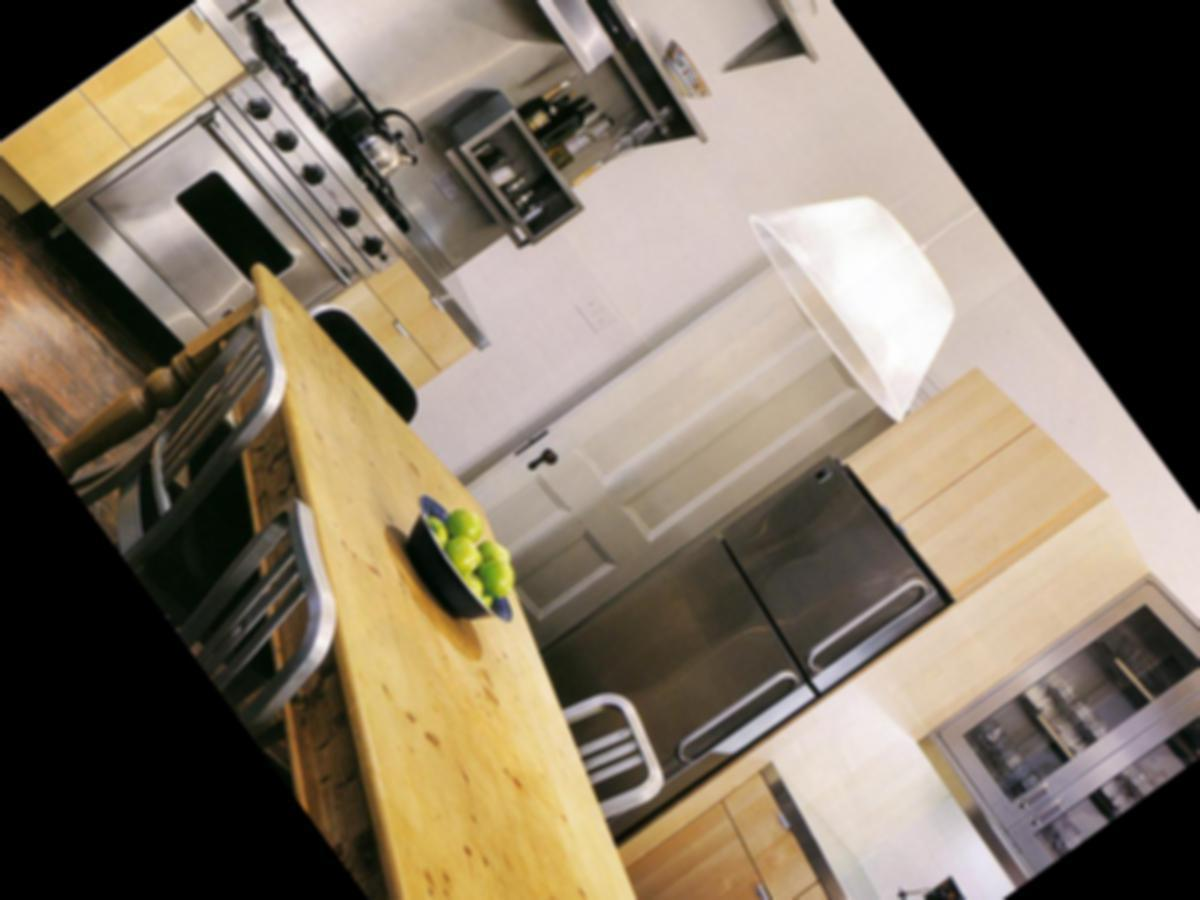Electrodomestico: (527, 457, 934, 823), (175, 60, 401, 314)
